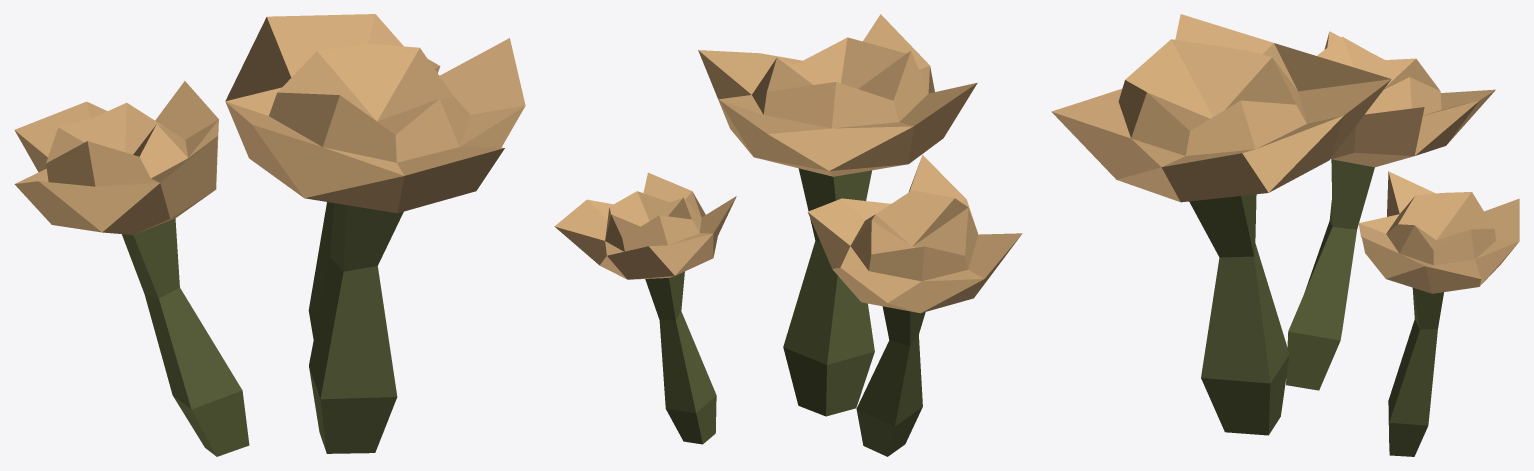
File: Hhuacao.FBX
The picture shows the model from 3 angles, left to right: view 1: azimuth 30°, elevation 25°; view 2: azimuth 150°, elevation 25°; view 3: azimuth 270°, elevation 25°; orthographic projection. The views are drawn at different scales.
Visible parts, largest first — view 1: 对象008; view 2: 对象008; view 3: 对象008.
Boxes of the visible parts, x1=… form: 对象008: x1=14, y1=14, x2=525, y2=456; 对象008: x1=554, y1=14, x2=1022, y2=456; 对象008: x1=1051, y1=14, x2=1519, y2=456.
Size of the model in its own units: 6.97 by 5.76 by 6.66.
